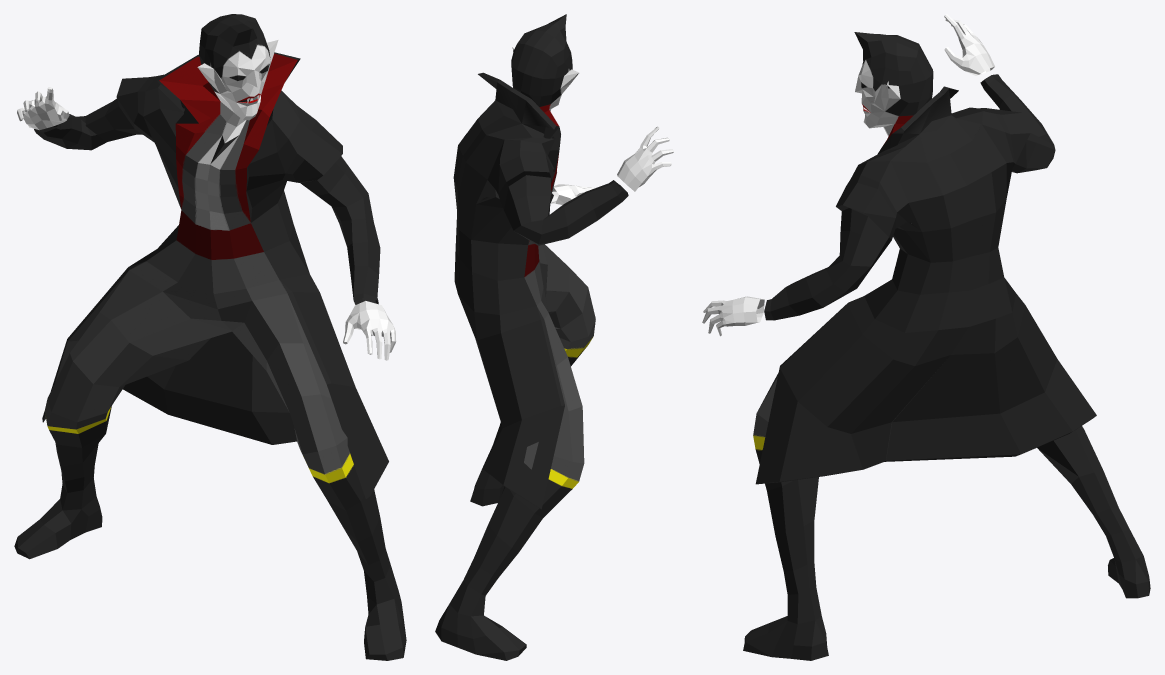
File: VampireAttack(60).obj
3 views of the same model, side by side, from view 1: azimuth 30°, elevation 25°; view 2: azimuth 150°, elevation 25°; view 3: azimuth 270°, elevation 25° (orthographic). The views are drawn at different scales.
Parts seen in each view (by area): view 1: Plane002; view 2: Plane002; view 3: Plane002.
Part boxes in pixels (left/top/right/bottom): Plane002: left=14, top=14, right=406, bottom=660; Plane002: left=435, top=14, right=673, bottom=660; Plane002: left=702, top=14, right=1150, bottom=660.
Size of the model in its own units: 156 by 300 by 211.
